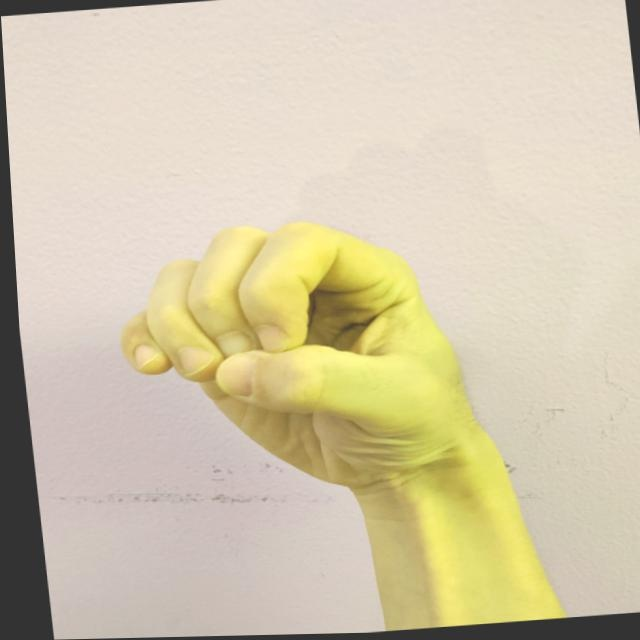O: (97, 207, 478, 511)
